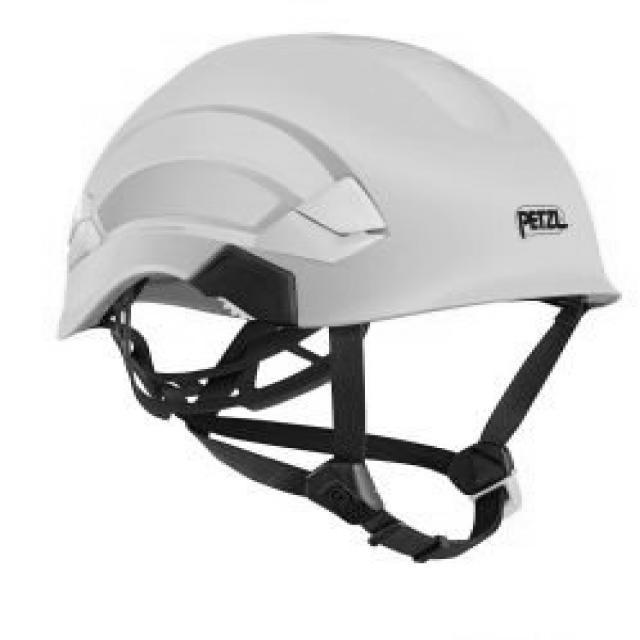safety_helmet: (57, 34, 619, 407)
